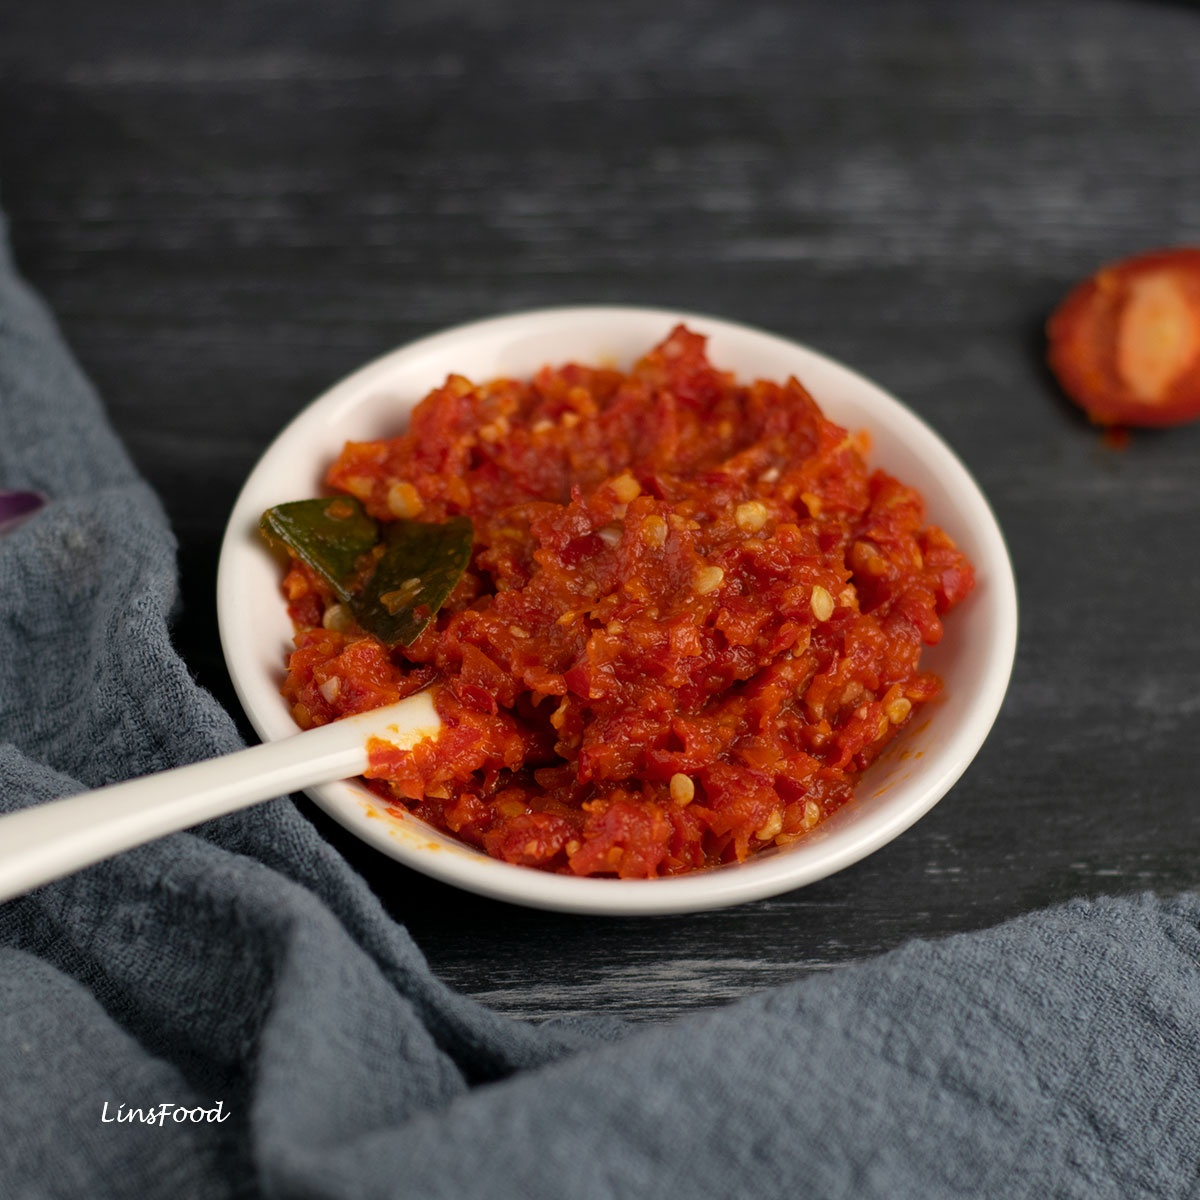sambal: (281, 319, 981, 880)
